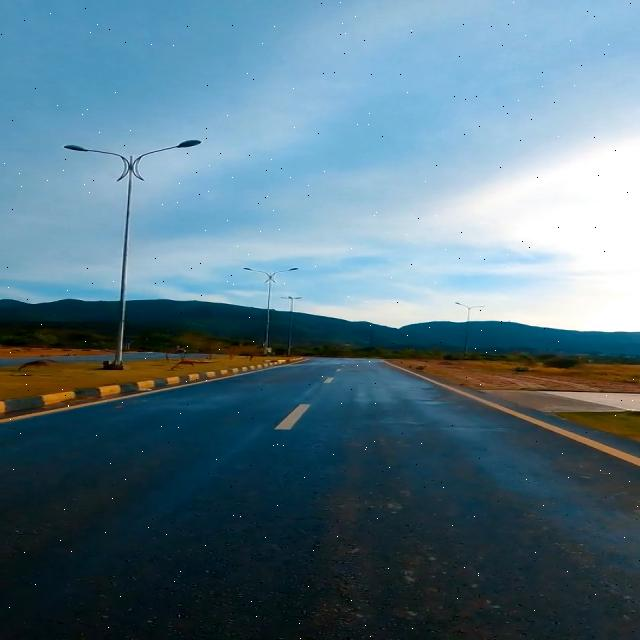lane: (383, 360, 640, 466), (275, 404, 311, 429)
road: (2, 359, 638, 639)
